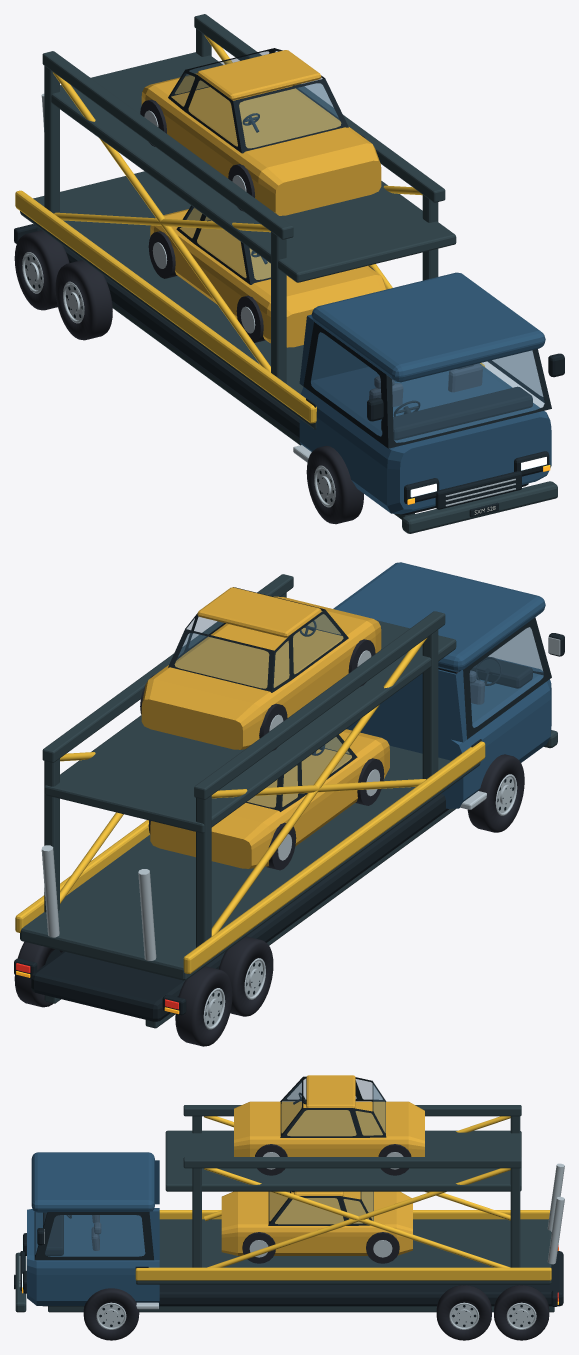
The picture shows the model from 3 angles, top to bottom: view 1: azimuth 30°, elevation 25°; view 2: azimuth 150°, elevation 25°; view 3: azimuth 270°, elevation 25°; orthographic projection. The views are drawn at different scales.
Visible parts, largest first — view 1: Senawang Auto Transporter; view 2: Senawang Auto Transporter; view 3: Senawang Auto Transporter.
Part boxes in pixels (left/top/right/bottom): Senawang Auto Transporter: left=14, top=14, right=564, bottom=533; Senawang Auto Transporter: left=14, top=562, right=564, bottom=1046; Senawang Auto Transporter: left=14, top=1075, right=564, bottom=1340.
Size of the model in its own units: 2.63 by 4.03 by 9.13.
